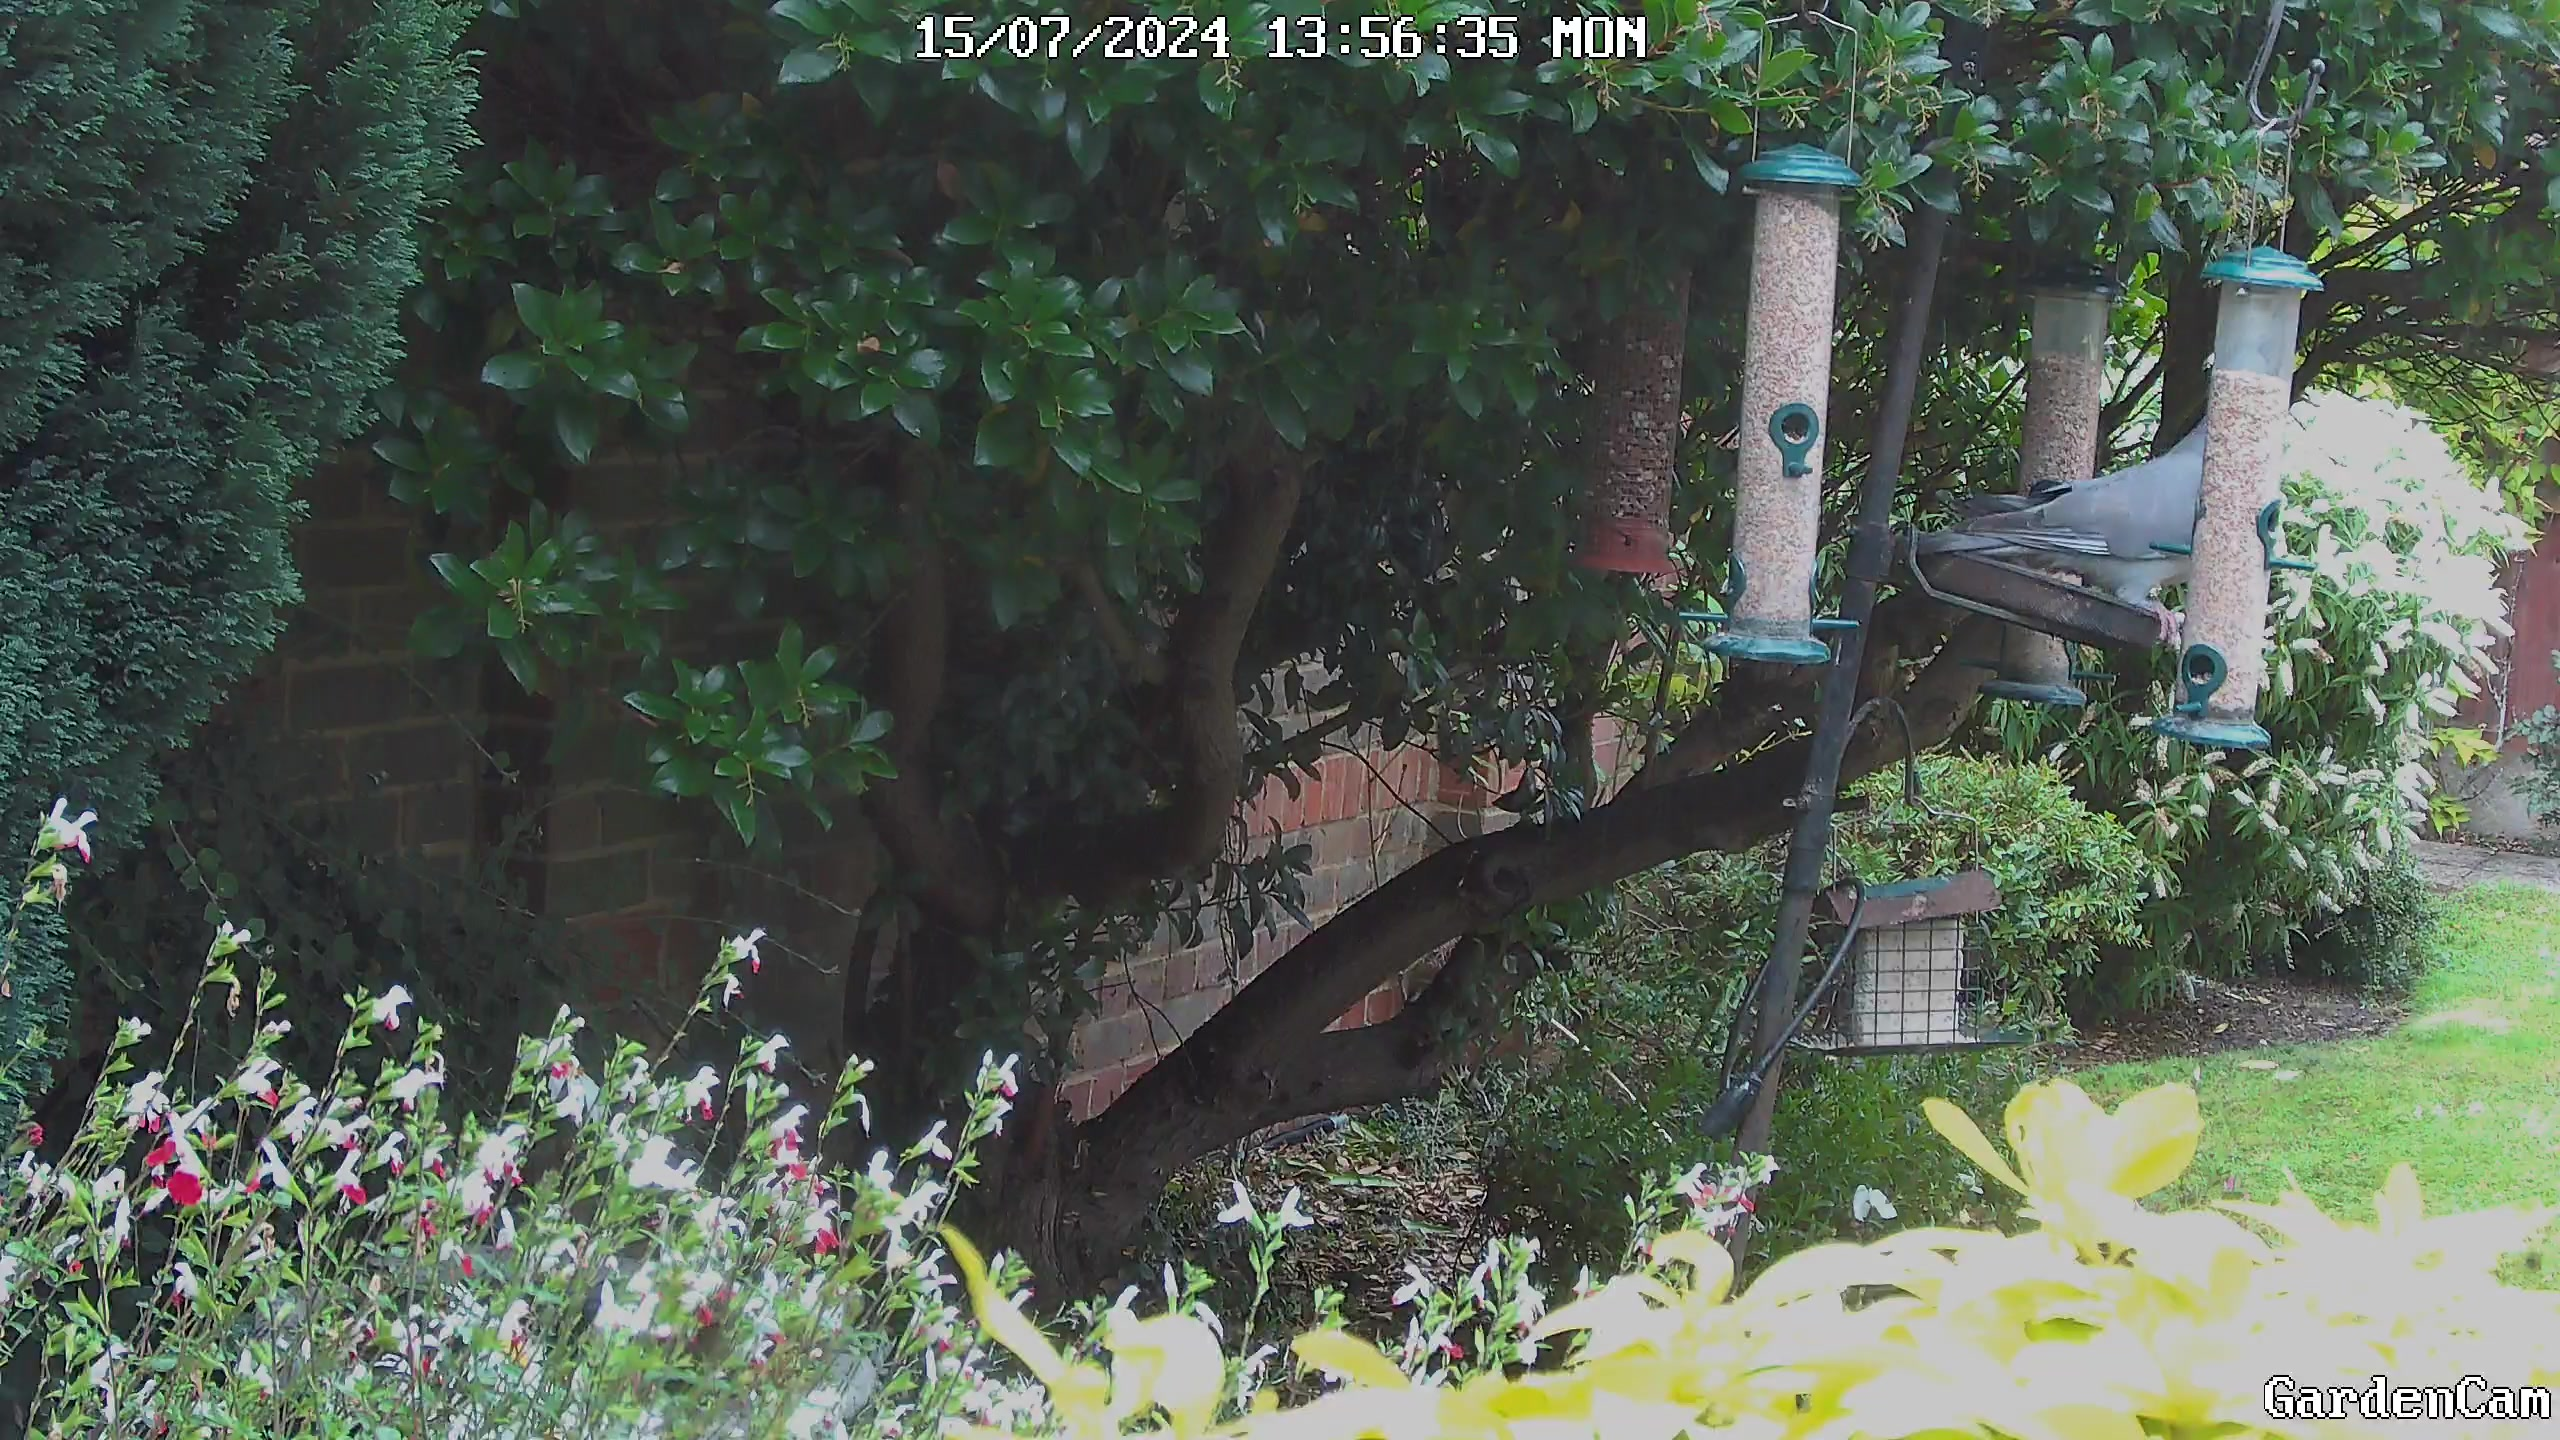Wood_Pigeon: (1922, 417, 2222, 640)
